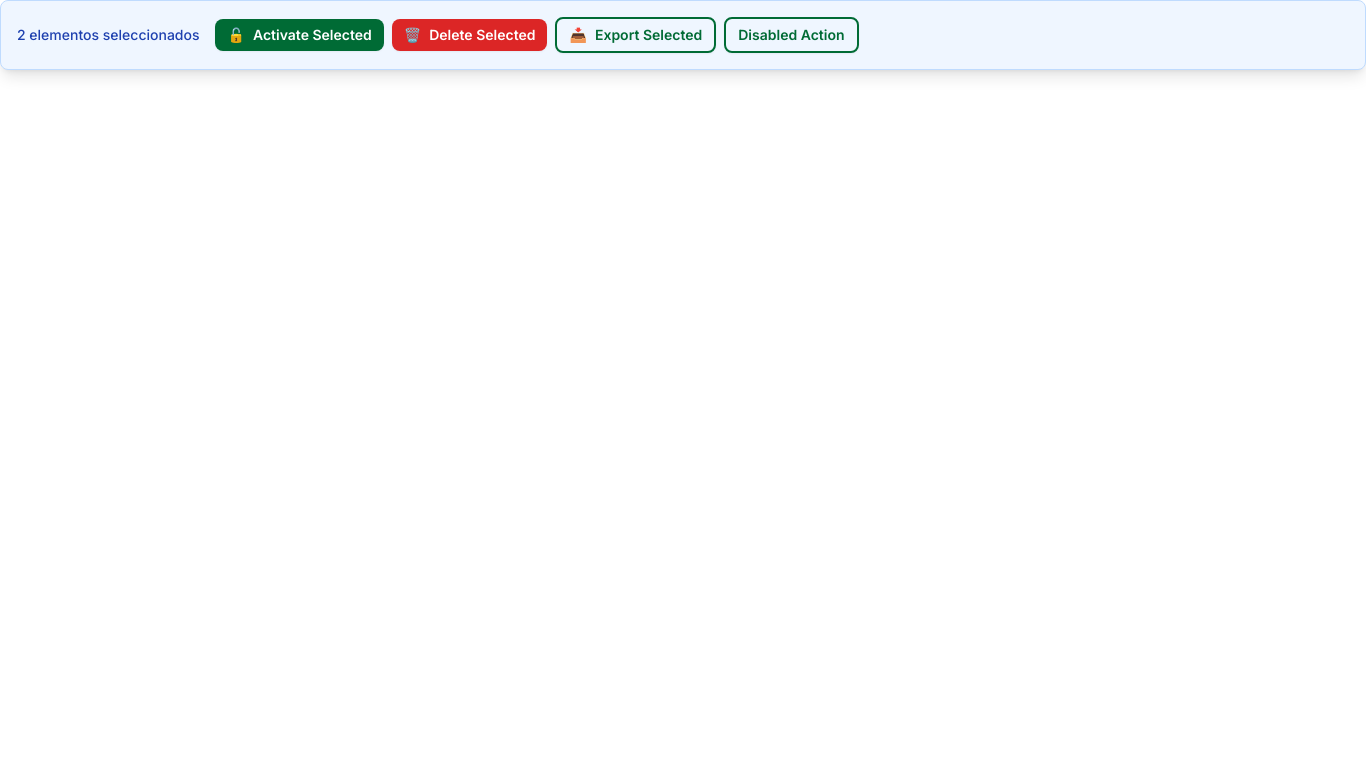
Scenario: BulkActions › cancels action when confirmation is cancelled
Click the button "🗑️Delete Selected" at (470, 35), box [392,19,548,51]
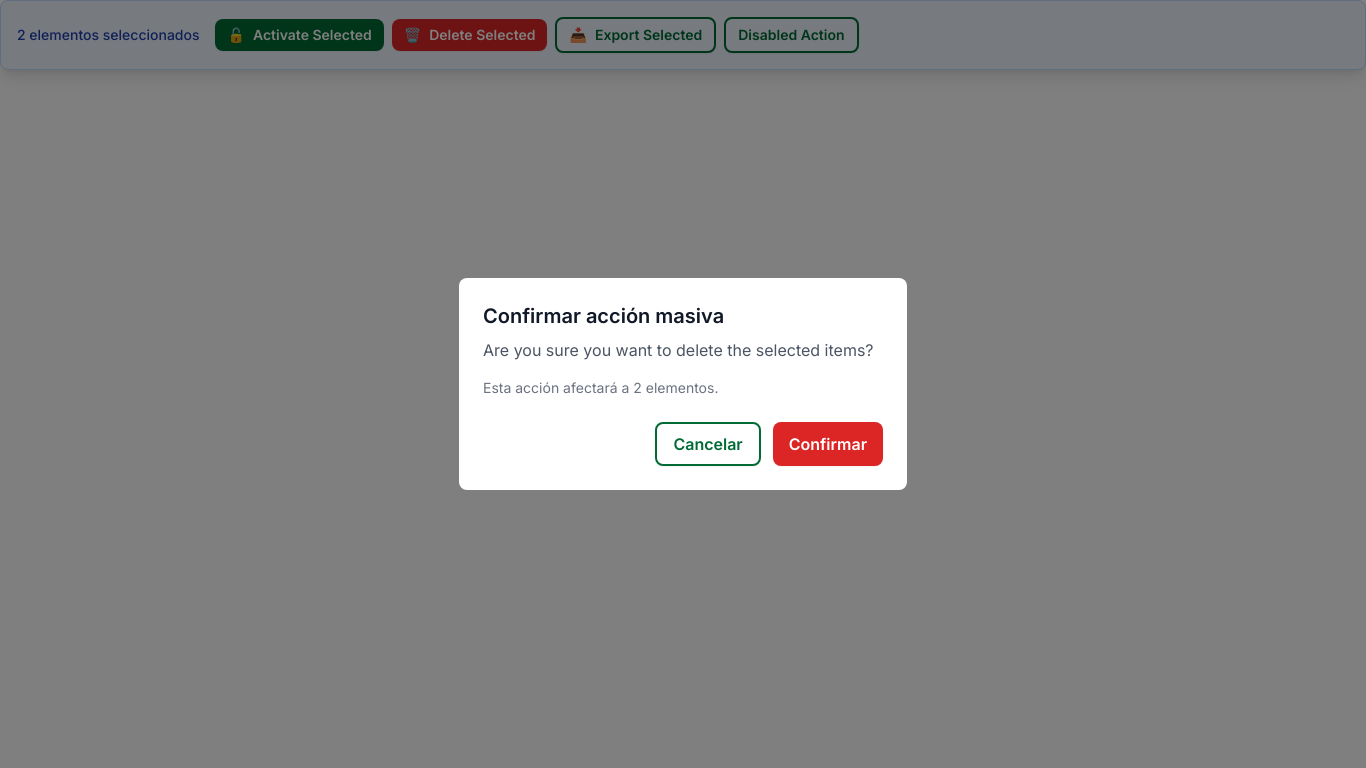
Click the button "Cancelar" at (708, 444), box [655,422,761,466]
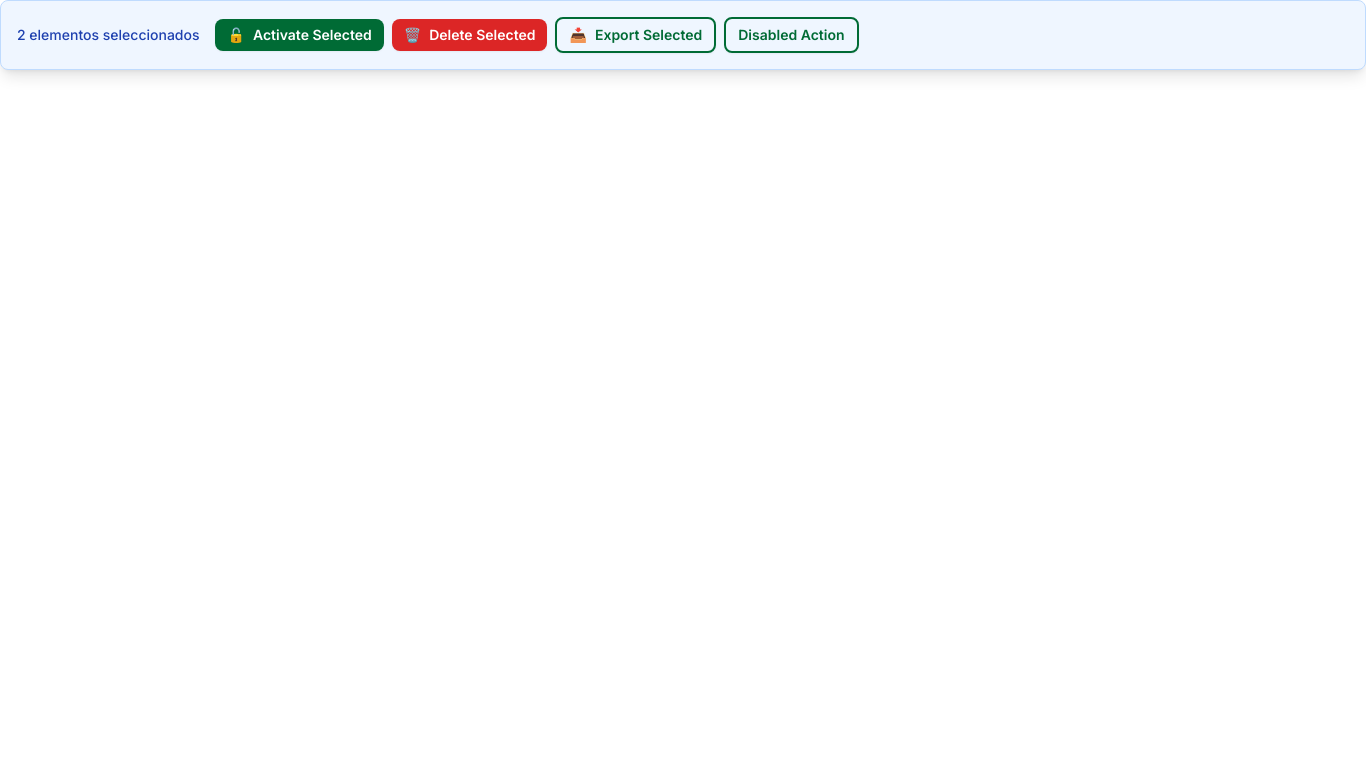
Result: the heading "Confirmar acción masiva" is gone
